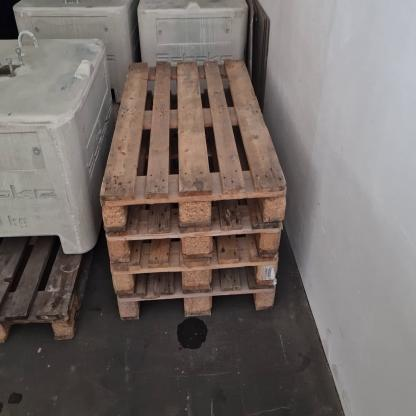BoxFace: (97, 59, 288, 234), (0, 238, 98, 342), (106, 227, 284, 269), (109, 261, 280, 297), (117, 289, 279, 323)
